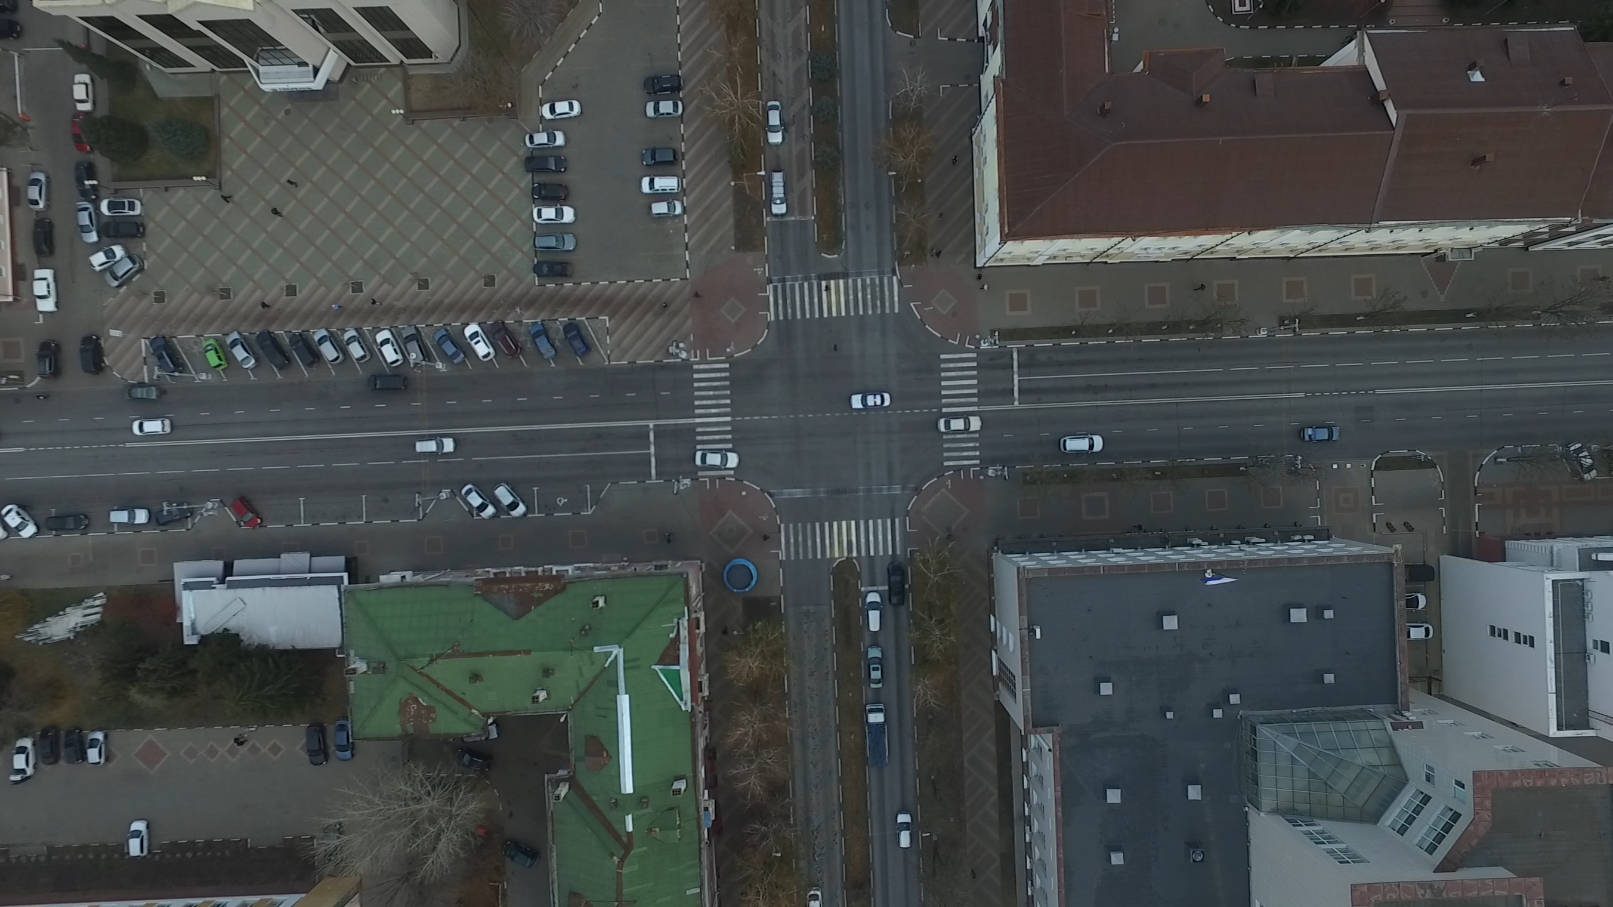car: (147, 336, 187, 378), (459, 481, 500, 518), (257, 332, 292, 374), (220, 332, 256, 372), (1566, 440, 1600, 482), (866, 703, 887, 769), (314, 330, 348, 370), (34, 266, 63, 312), (463, 324, 497, 363), (3, 502, 38, 540), (105, 255, 147, 286), (485, 323, 520, 361), (428, 326, 462, 363), (395, 328, 425, 370), (11, 736, 39, 782), (505, 838, 544, 870), (526, 324, 556, 365), (493, 482, 527, 517), (373, 329, 405, 367), (304, 723, 329, 770), (153, 503, 197, 529), (453, 746, 492, 776), (321, 820, 348, 863), (80, 336, 106, 379), (91, 243, 131, 271), (338, 331, 371, 365), (27, 172, 54, 213), (888, 811, 916, 852), (102, 219, 146, 245), (73, 202, 99, 245), (286, 333, 317, 369), (124, 818, 150, 860), (71, 117, 96, 159), (75, 161, 101, 202), (763, 101, 785, 146), (71, 76, 97, 114), (232, 496, 263, 528), (563, 324, 592, 359), (201, 337, 228, 372), (100, 199, 144, 221), (39, 726, 63, 766), (886, 558, 906, 607), (333, 718, 356, 761), (531, 200, 576, 221), (535, 100, 581, 121), (39, 340, 62, 381), (532, 231, 576, 252), (368, 373, 411, 394), (640, 100, 684, 121), (695, 449, 740, 468), (47, 513, 94, 532), (522, 153, 569, 172), (84, 731, 109, 766), (34, 228, 56, 267), (643, 147, 681, 169), (641, 75, 680, 97), (1057, 434, 1102, 453), (768, 173, 787, 218), (639, 175, 681, 195), (524, 128, 566, 148), (937, 415, 984, 433), (530, 181, 569, 200), (866, 646, 884, 690), (531, 260, 574, 278), (129, 418, 172, 435), (849, 392, 888, 411), (646, 199, 684, 219), (124, 382, 164, 401), (412, 437, 454, 455), (1301, 426, 1343, 444), (112, 506, 153, 523), (1406, 561, 1437, 583), (1, 516, 18, 555), (66, 729, 88, 759), (865, 591, 880, 633), (1405, 592, 1429, 615), (1404, 622, 1435, 639), (803, 883, 823, 907), (1, 27, 24, 45)
